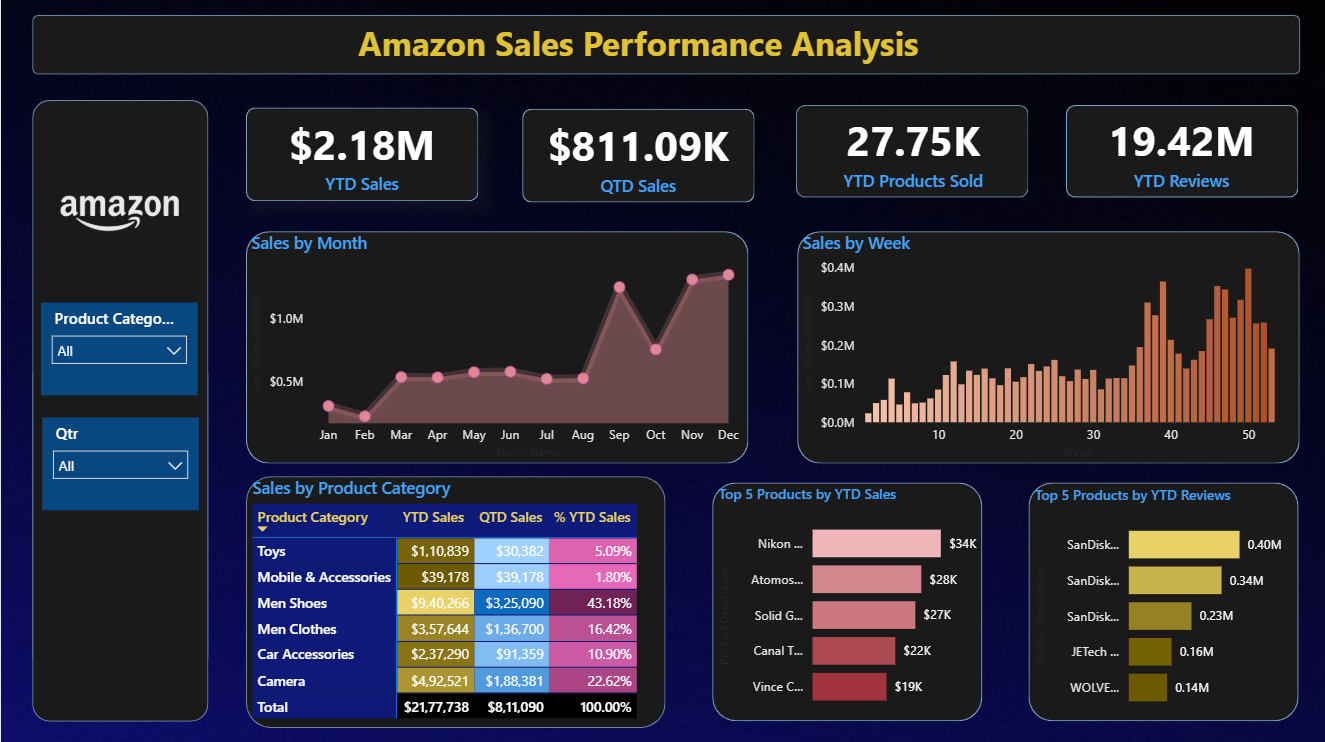

The dashboard page shown, as its layout file describes it:
{"tool":"powerbi","page":{"name":"Page 1","canvas":[1280,720],"ordinal":0},"visuals":[{"type":"shape","box":[502.9,105.1,224.4,90.5],"z":0},{"type":"card","fields":{"Values":["Amazon_Data.QTD Sales"]},"box":[503.1,105,224.4,91.7],"z":1000},{"type":"shape","box":[30,15,1223.8,57.5],"z":2000},{"type":"shape","box":[236.2,103.9,224.4,90.5],"z":3000},{"type":"card","fields":{"Values":["Amazon_Data.YTD Sales"]},"box":[236.5,103.8,224.4,90.5],"z":4000},{"type":"shape","box":[30,96.2,170,600],"z":5000},{"type":"shape","box":[767.1,101.5,224.4,89.3],"z":6000},{"type":"shape","box":[1027.7,101.5,224.4,89.3],"z":7000},{"type":"card","fields":{"Values":["Amazon_Data.YTD Products Sold"]},"box":[768.5,100.1,224.4,91.7],"z":8000},{"type":"card","fields":{"Values":["Amazon_Data.YTD Reviews"]},"box":[1027.9,100.1,223.2,91.7],"z":9000},{"type":"shape","box":[236.5,223.2,485,224.4],"z":10000},{"type":"areaChart","title":"Sales by Month ","fields":{"Category":["Date Table.Month Name"],"Y":["Sum(Amazon_Data.Price(Dollar))"]},"box":[236.5,223.2,485,224.4],"z":11000},{"type":"shape","box":[768.5,223.2,485,224.4],"z":12000},{"type":"columnChart","title":"Sales by Week","fields":{"Category":["Date Table.Week"],"Y":["Sum(Amazon_Data.Price(Dollar))"]},"box":[768.5,223.2,485,224.4],"z":13000},{"type":"shape","box":[236.5,459.7,405,243],"z":14000},{"type":"shape","box":[991.7,465.7,260.6,230.4],"z":15000},{"type":"pivotTable","title":"Sales by Product Category","fields":{"Rows":["Amazon_Data.Product Category"],"Values":["Amazon_Data.YTD Sales1","Amazon_Data.QTD Sales","Amazon_Data.YTD Sales"]},"box":[237.7,459.7,405.4,243.7],"z":16000},{"type":"shape","box":[686.5,465.7,260.6,230.4],"z":17000},{"type":"clusteredBarChart","title":"Top 5 Products by YTD Sales ","fields":{"Category":["Amazon_Data.Product Description"],"Y":["Amazon_Data.YTD Sales"]},"box":[687.7,466.9,259.4,229.2],"z":18000},{"type":"clusteredBarChart","title":"Top 5 Products by YTD Reviews ","fields":{"Category":["Amazon_Data.Product Description"],"Y":["Amazon_Data.YTD Reviews"]},"box":[992.5,467.5,260,228.8],"z":19000},{"type":"slicer","fields":{"Values":["Amazon_Data.Product Category"]},"box":[38.6,292,150.8,89.3],"z":20000},{"type":"slicer","fields":{"Values":["Date Table.Qtr"]},"box":[39.8,403,150.8,89.3],"z":21000},{"type":"image","box":[45.8,136.3,137.5,138.7],"z":22000},{"type":"textbox","box":[301.6,14.5,627.3,56.7],"z":23000}]}

Visuals, with their boxes in screenshot pixels (x1, y1, x2, y2), scaled from the page's 1280x720 canvas onto the 1325x742 screenshot:
shape: bbox=(521, 108, 753, 202)
card - Amazon_Data.QTD Sales: bbox=(521, 108, 753, 203)
shape: bbox=(31, 15, 1298, 75)
shape: bbox=(245, 107, 477, 200)
card - Amazon_Data.YTD Sales: bbox=(245, 107, 477, 200)
shape: bbox=(31, 99, 207, 717)
shape: bbox=(794, 105, 1026, 197)
shape: bbox=(1064, 105, 1296, 197)
card - Amazon_Data.YTD Products Sold: bbox=(796, 103, 1028, 198)
card - Amazon_Data.YTD Reviews: bbox=(1064, 103, 1295, 198)
shape: bbox=(245, 230, 747, 461)
"Sales by Month " areaChart: bbox=(245, 230, 747, 461)
shape: bbox=(796, 230, 1298, 461)
"Sales by Week" columnChart: bbox=(796, 230, 1298, 461)
shape: bbox=(245, 474, 664, 724)
shape: bbox=(1027, 480, 1296, 717)
"Sales by Product Category" pivotTable: bbox=(246, 474, 666, 725)
shape: bbox=(711, 480, 980, 717)
"Top 5 Products by YTD Sales " clusteredBarChart: bbox=(712, 481, 980, 717)
"Top 5 Products by YTD Reviews " clusteredBarChart: bbox=(1027, 482, 1297, 718)
slicer - Amazon_Data.Product Category: bbox=(40, 301, 196, 393)
slicer - Date Table.Qtr: bbox=(41, 415, 197, 507)
image: bbox=(47, 140, 190, 283)
textbox: bbox=(312, 15, 962, 73)
